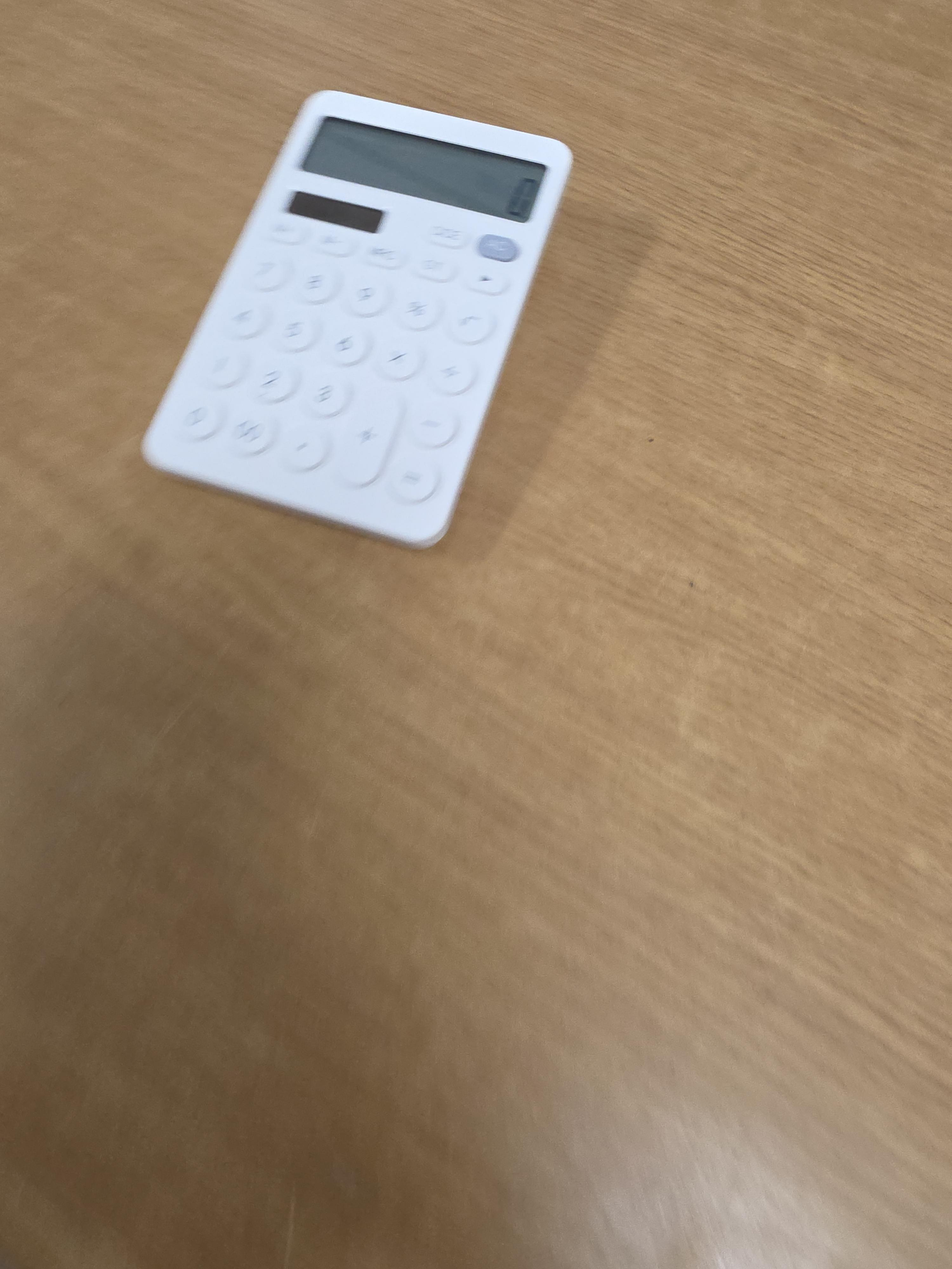calculator: (142, 90, 573, 549)
